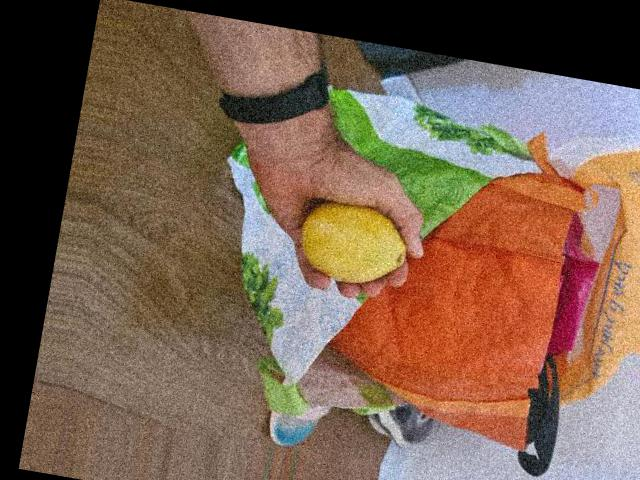lemon: (290, 194, 413, 290)
